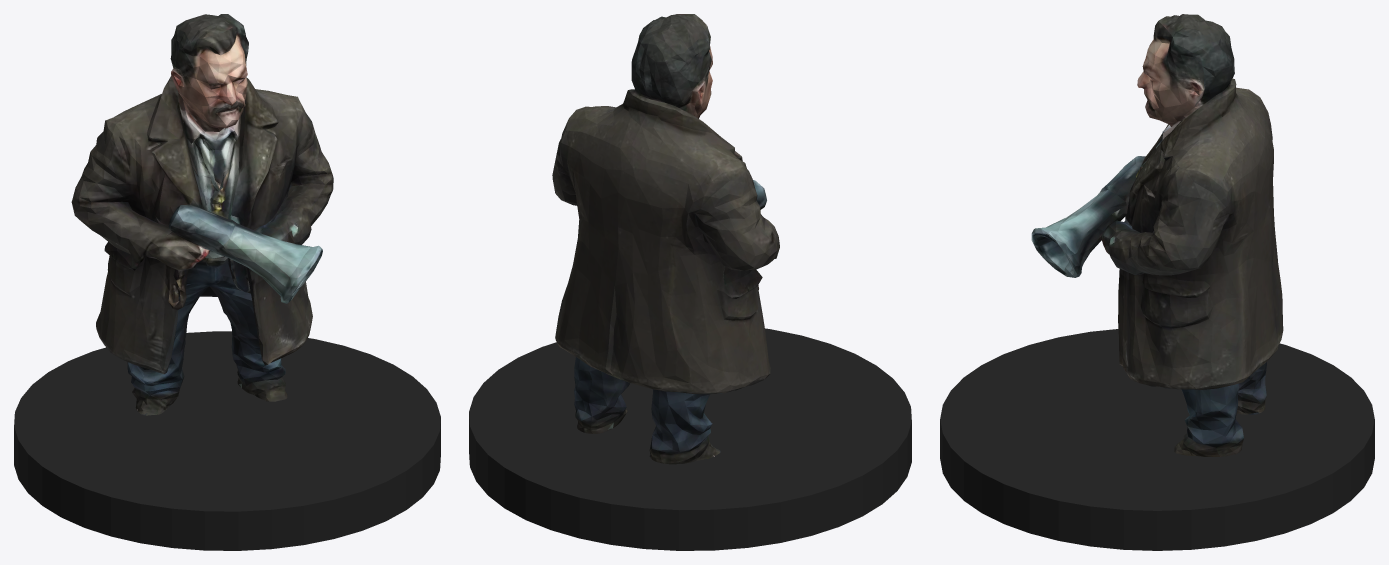
The model's file is arthur-thurston.glb.
The picture shows the model from 3 angles, left to right: view 1: azimuth 30°, elevation 25°; view 2: azimuth 150°, elevation 25°; view 3: azimuth 270°, elevation 25°; orthographic projection. The views are drawn at different scales.
Parts seen in each view (by area): view 1: base, figure; view 2: figure, base; view 3: base, figure.
Part boxes in pixels (bbox=[...]): base: bbox=[14, 331, 440, 550]; figure: bbox=[71, 14, 333, 415]; figure: bbox=[552, 14, 779, 464]; base: bbox=[469, 328, 911, 550]; base: bbox=[940, 329, 1374, 550]; figure: bbox=[1031, 14, 1283, 456].
Bounding box in the file's own units: 1.18 × 1.32 × 1.18.
2 materials, 1 textured.
